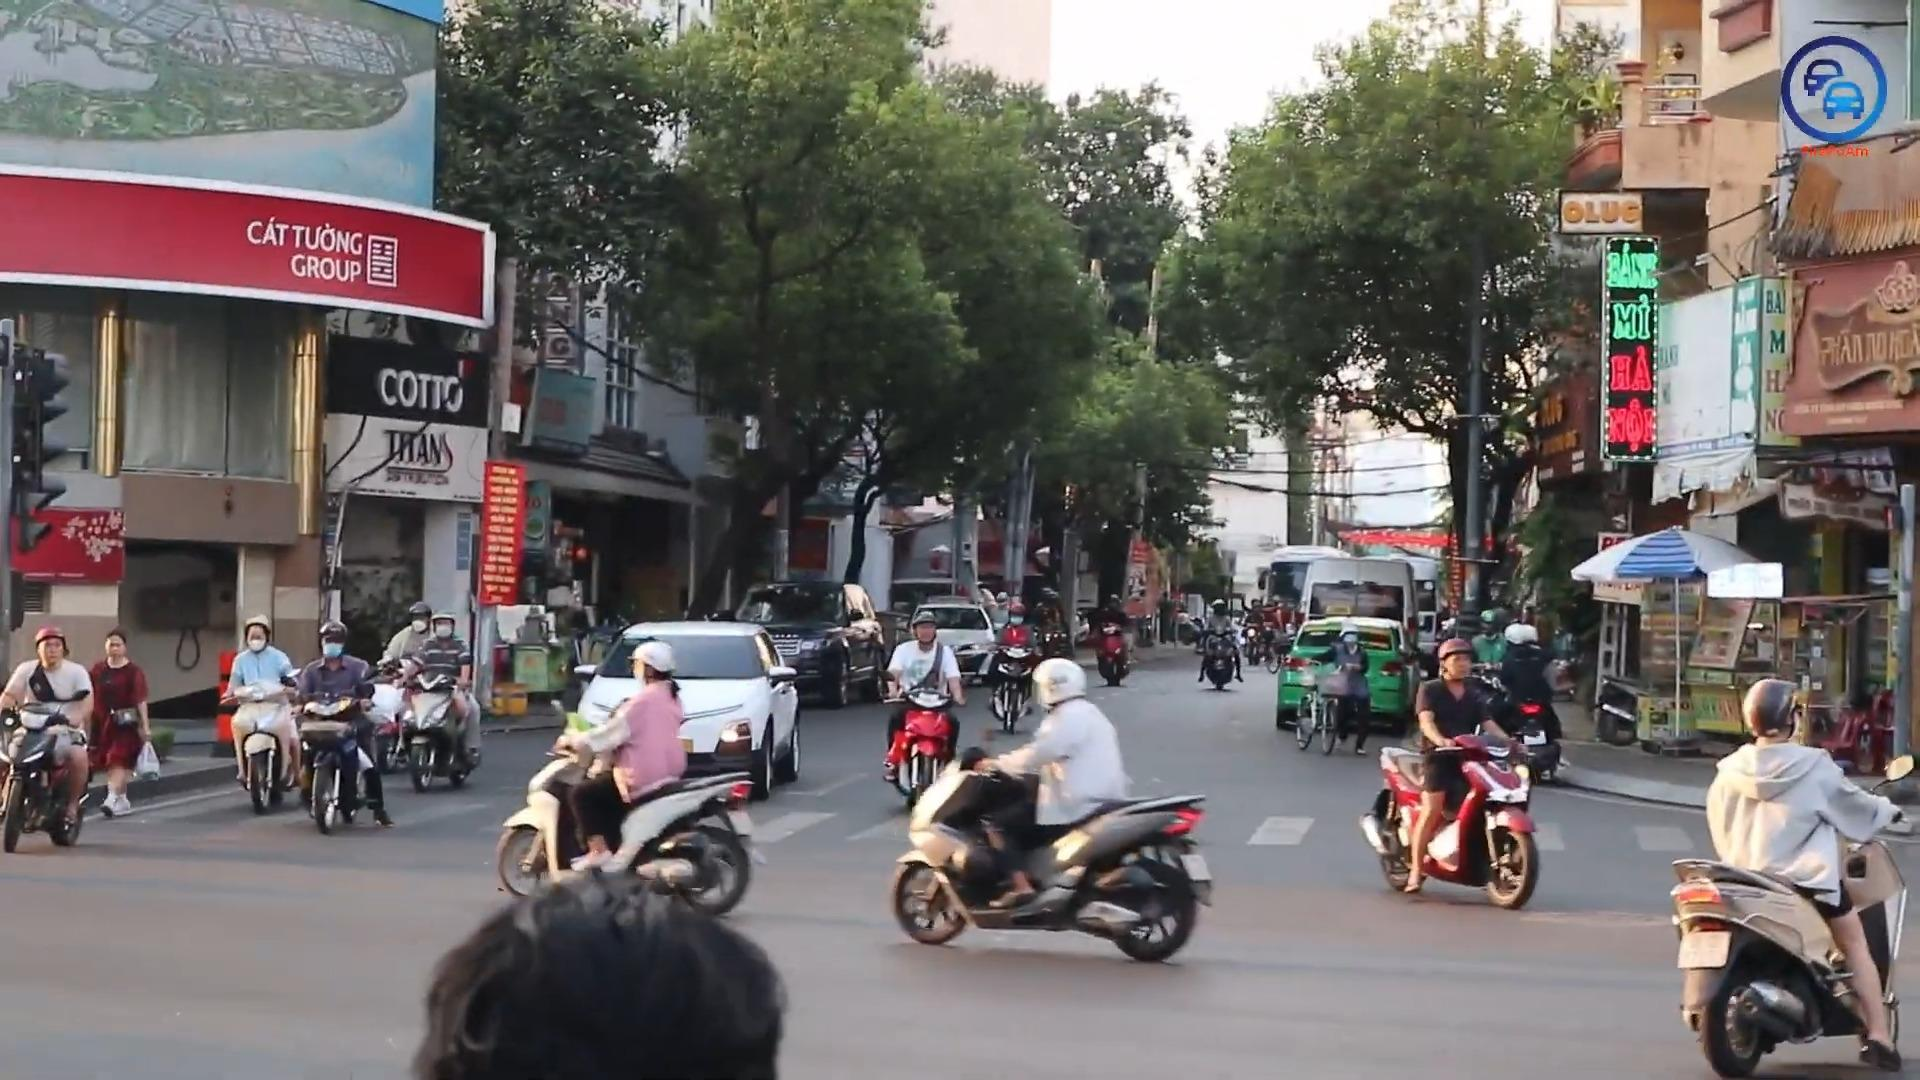bien_so: (1675, 929, 1732, 969), (1177, 851, 1214, 885), (725, 808, 756, 836)
